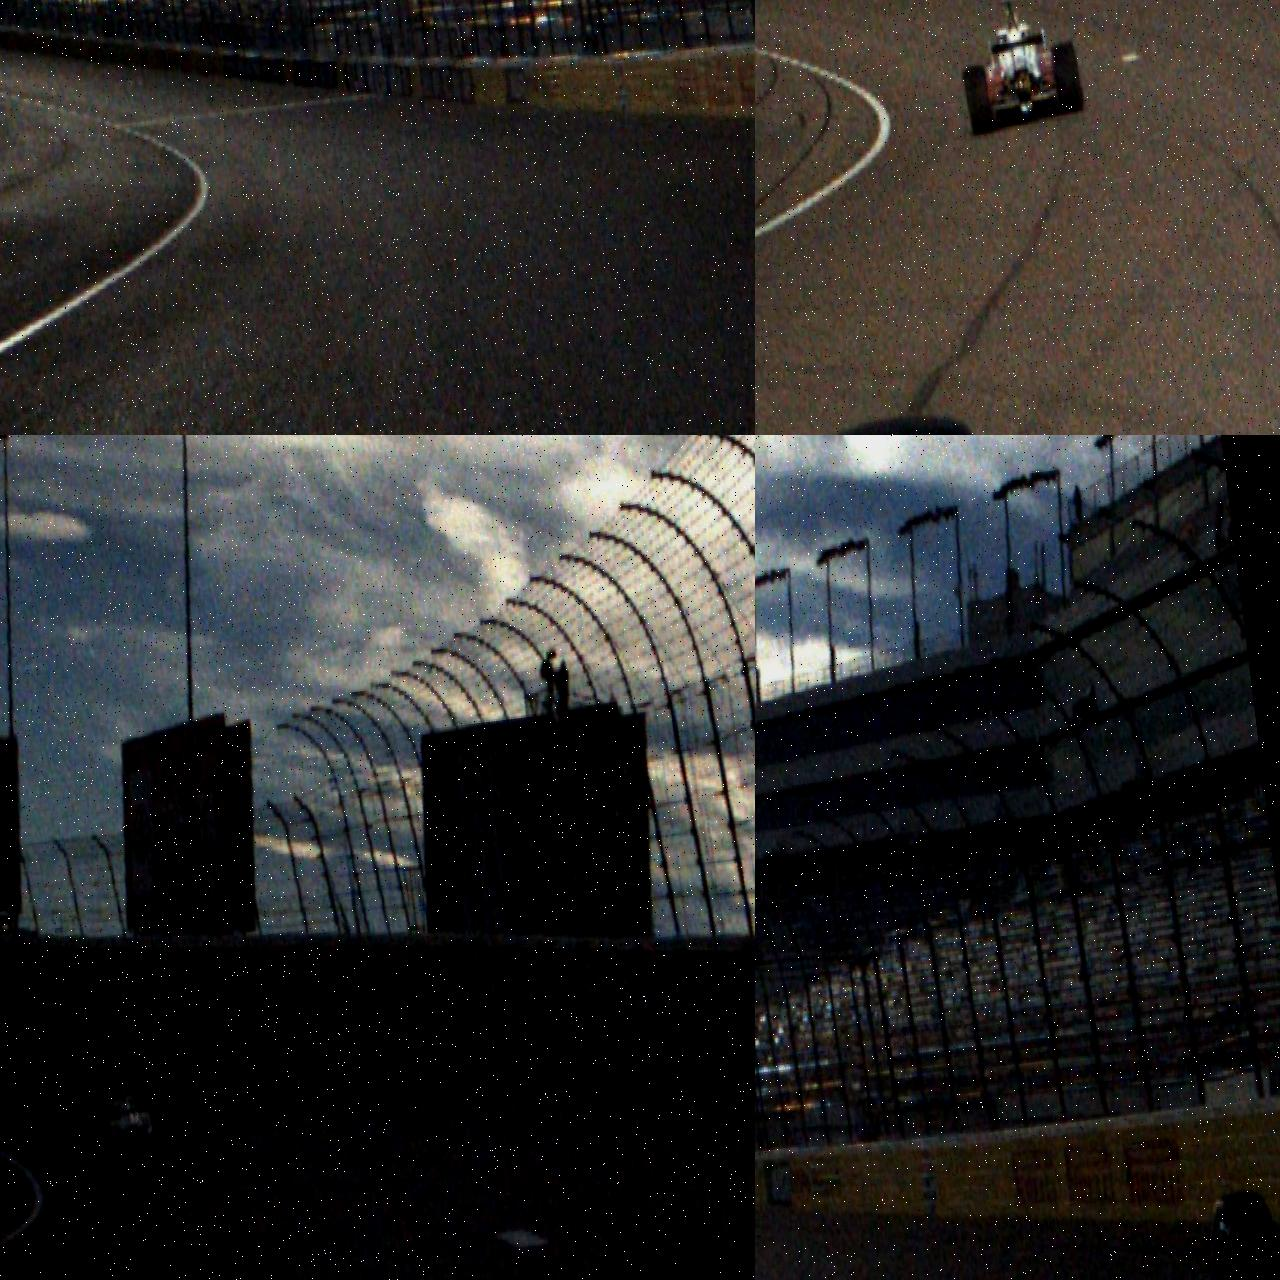AV: (956, 0, 1085, 137), (87, 1081, 172, 1172)
Wheel: (1204, 1187, 1280, 1280), (1050, 41, 1083, 115), (965, 64, 994, 136)
